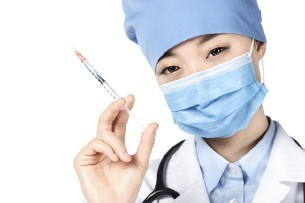Mask: (151, 35, 259, 143)
